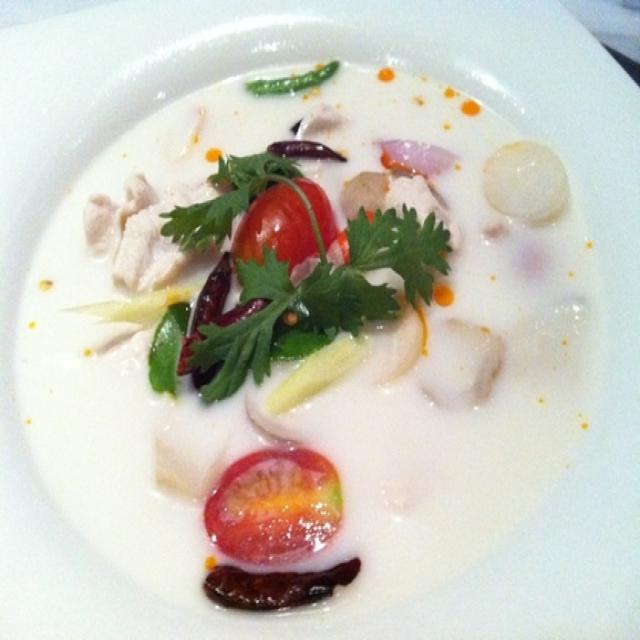汤锅炖物: (11, 34, 608, 615)
